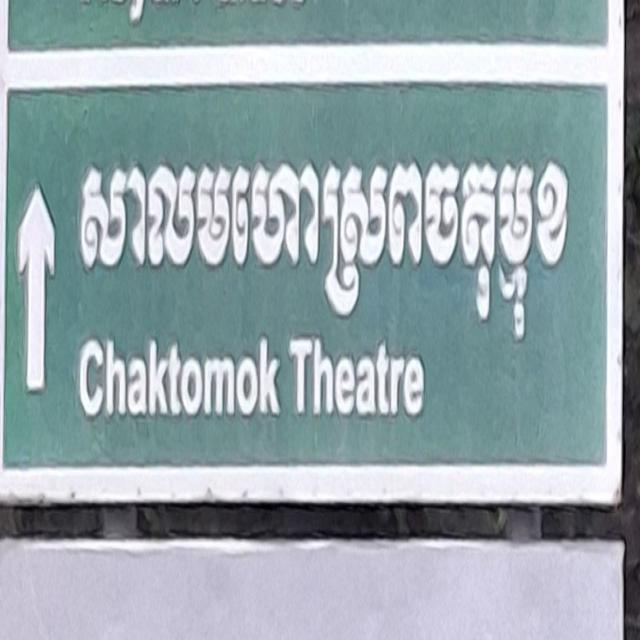Yolov11kh: (37, 92, 606, 355)
